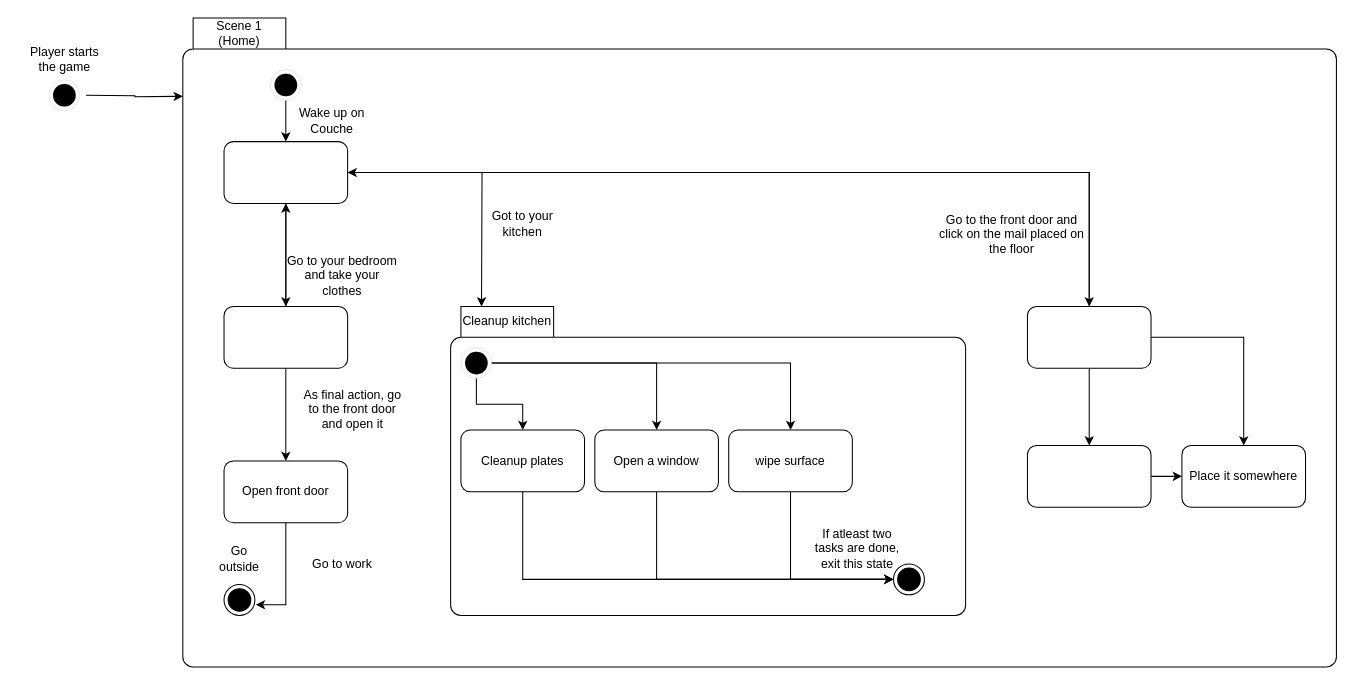
The diagram is 1354 pixels wide and 685 high, and some of its shapes have lost their labels. The centre of each missing label's shape, as x and y in pixels:
Collect mail: the point at 1088,336
Read your mail: the point at 1088,475
Take clothes from bedroom: the point at 285,336
Walk around inside the house: the point at 285,172
